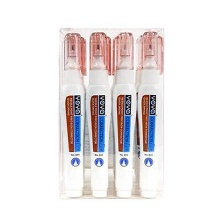correction_fluid: (134, 29, 166, 199), (81, 29, 112, 198), (108, 31, 139, 199), (57, 30, 87, 198)
plastic_box: (53, 22, 169, 203)
